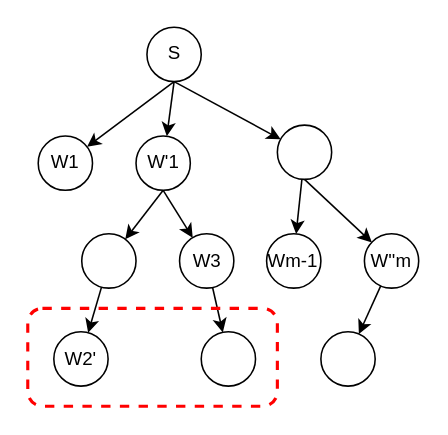
Image size: 448x435. Some labels were removed from this diagram. The shapes that lost their labels are listed below. From the top down, each one's centre as x and y in pixels, then its label:
the point at 304,151: W'm
the point at 108,260: W2
the point at 228,358: W3'
the point at 347,358: Wm
